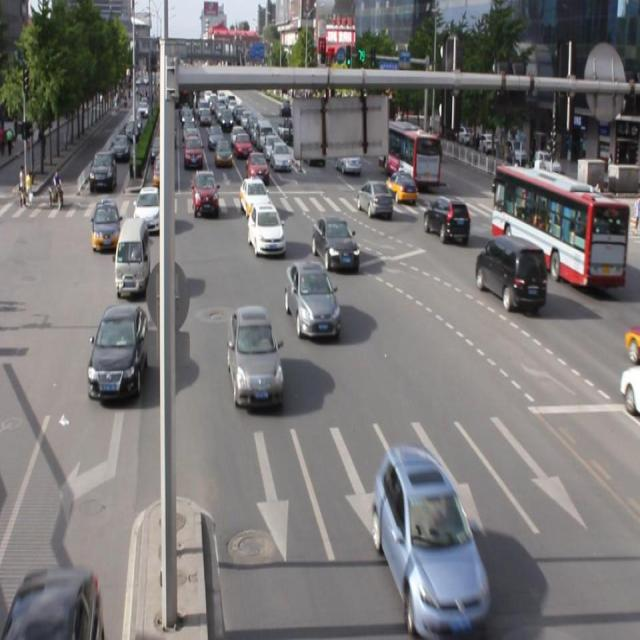car: (373, 446, 490, 628), (0, 566, 101, 640), (227, 303, 285, 410), (87, 300, 148, 400), (475, 233, 546, 311), (285, 260, 340, 338), (311, 215, 360, 270), (422, 193, 469, 243), (248, 202, 286, 255)
truck: (115, 217, 150, 296)
van: (491, 164, 625, 284)
